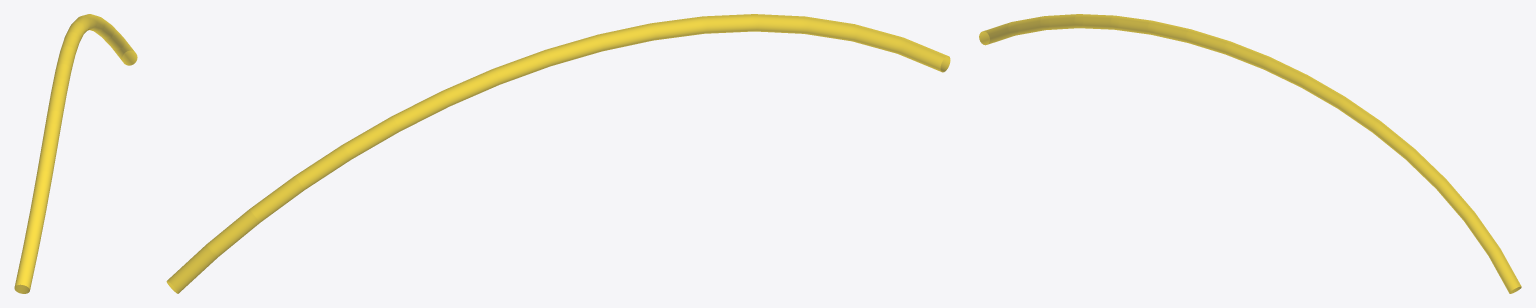
The model's file is Event_17758602_track_122.fbx.
The picture shows the model from 3 angles, left to right: view 1: azimuth 30°, elevation 25°; view 2: azimuth 150°, elevation 25°; view 3: azimuth 270°, elevation 25°; orthographic projection. The views are drawn at different scales.
Visible parts, largest first — view 1: Model; view 2: Model; view 3: Model.
Part boxes in pixels (bbox=[...]): Model: bbox=[14, 14, 137, 293]; Model: bbox=[166, 14, 950, 293]; Model: bbox=[979, 14, 1521, 293].
Bounding box in the file's own units: 1.21 × 0.4803 × 1.53.
